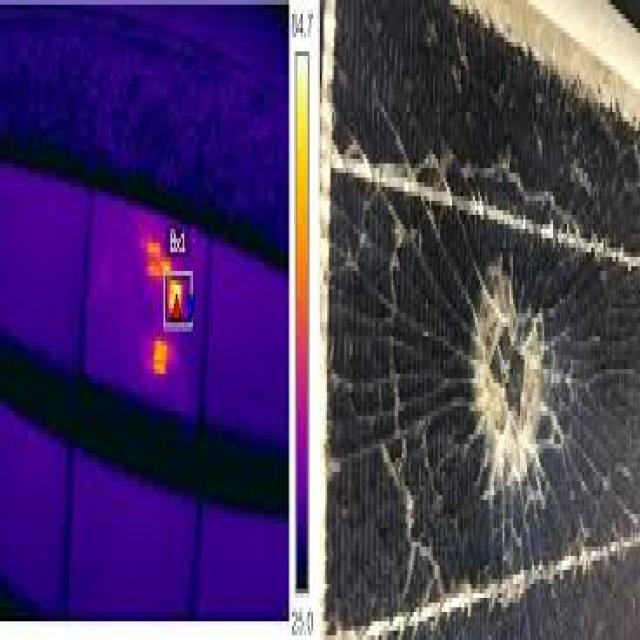faulty: (318, 0, 640, 640)
